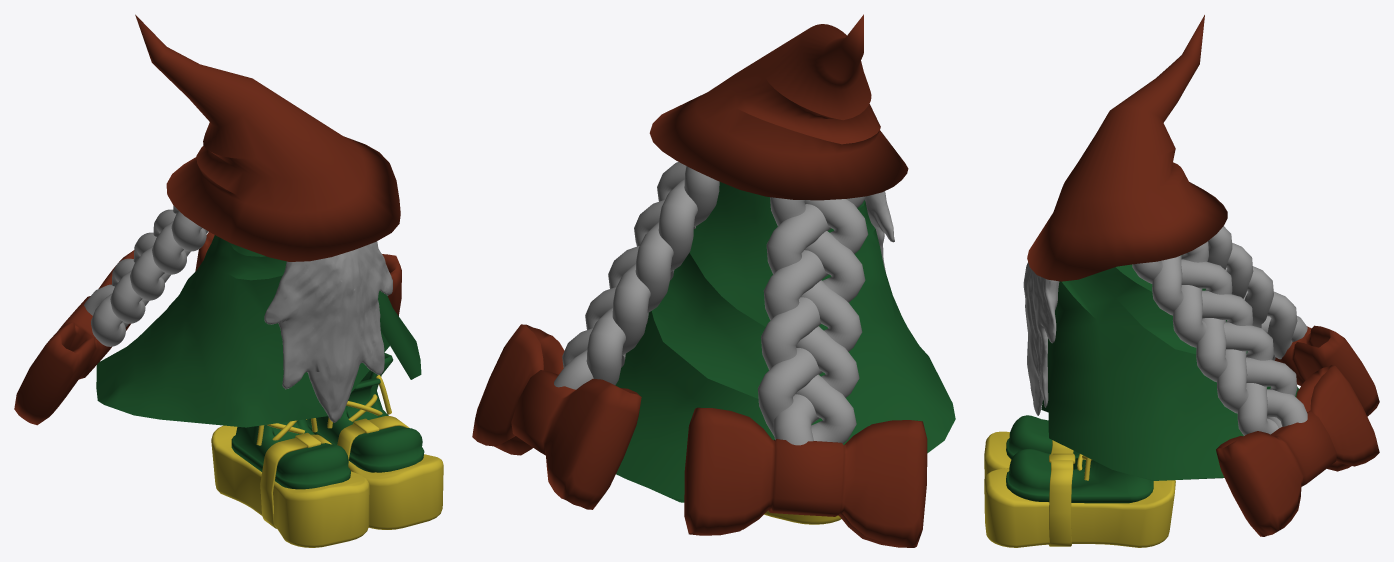
Rendered from Gnalibi.glb.
3 renders of one model, left to right at view 1: azimuth 30°, elevation 25°; view 2: azimuth 150°, elevation 25°; view 3: azimuth 270°, elevation 25°, orthographic. The views are drawn at different scales.
Visible parts, largest first — view 1: Circle, Plane, Cube.001, Plane.002, Cube, Plane.004, Plane.005, BézierCurve, Cube.002; view 2: Plane.005, Plane, Plane.004, Circle, Plane.002; view 3: Plane, Circle, Plane.004, Plane.005, Cube.001, Cube, Plane.002.
Part boxes in pixels (box(x1,y1,x2,y2)): Circle: box(135, 14, 400, 261); Plane: box(96, 235, 421, 427); Cube.001: box(211, 416, 443, 547); Plane.002: box(264, 241, 392, 422); Cube: box(231, 352, 424, 489); Plane.004: box(84, 205, 208, 346); Plane.005: box(14, 232, 401, 425); BézierCurve: box(256, 375, 391, 445); Cube.002: box(272, 378, 380, 441); Plane.005: box(472, 324, 927, 547); Plane: box(615, 182, 955, 502); Plane.004: box(554, 162, 868, 445); Circle: box(649, 14, 908, 200); Plane.002: box(864, 191, 894, 272); Plane: box(1041, 255, 1298, 480); Circle: box(1027, 15, 1227, 281); Plane.004: box(1132, 226, 1307, 435); Plane.005: box(1216, 325, 1379, 536); Cube.001: box(984, 431, 1175, 547); Cube: box(1006, 415, 1153, 503); Plane.002: box(1023, 262, 1059, 415).
Size of the model in its own units: 0.6595 by 0.787 by 0.6321.
